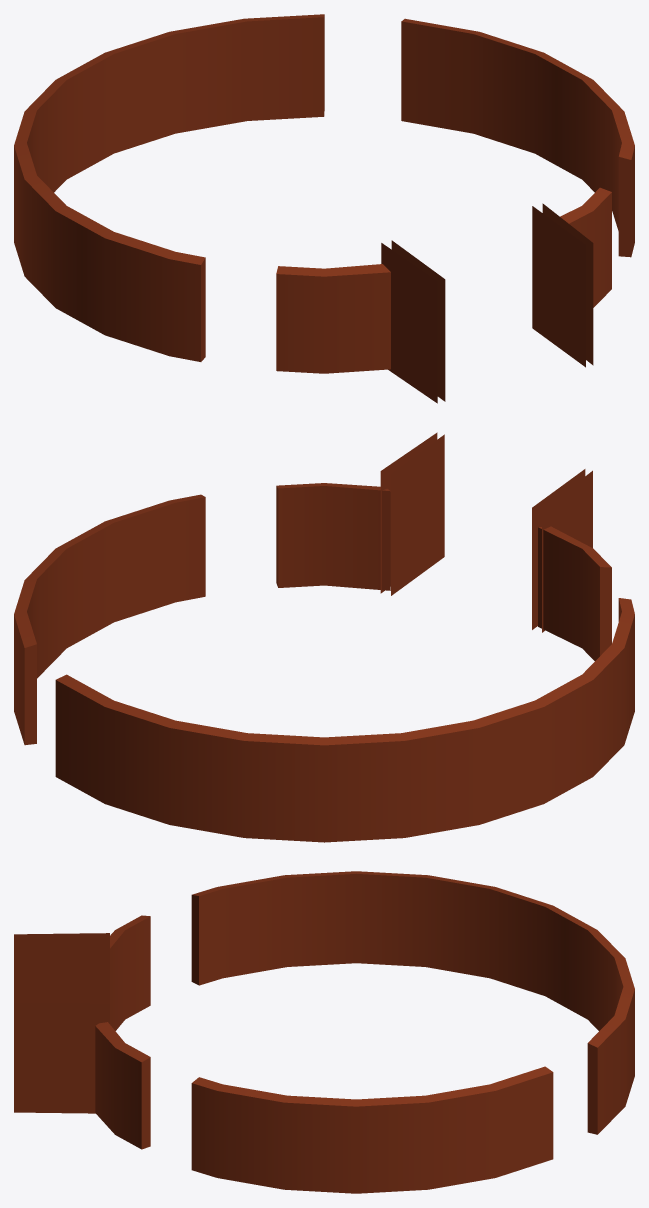
File: LoamWall01.FBX
3 renders of one model, top to bottom at view 1: azimuth 30°, elevation 25°; view 2: azimuth 150°, elevation 25°; view 3: azimuth 270°, elevation 25°, orthographic. The views are drawn at different scales.
Parts seen in each view (by area): view 1: Roundhouse_LoamWall; view 2: Roundhouse_LoamWall; view 3: Roundhouse_LoamWall.
Boxes of the visible parts, x1=… form: Roundhouse_LoamWall: x1=14, y1=14, x2=634, y2=403; Roundhouse_LoamWall: x1=14, y1=432, x2=634, y2=842; Roundhouse_LoamWall: x1=14, y1=871, x2=634, y2=1193.
Size of the model in its own units: 18.76 by 4.09 by 20.9.
